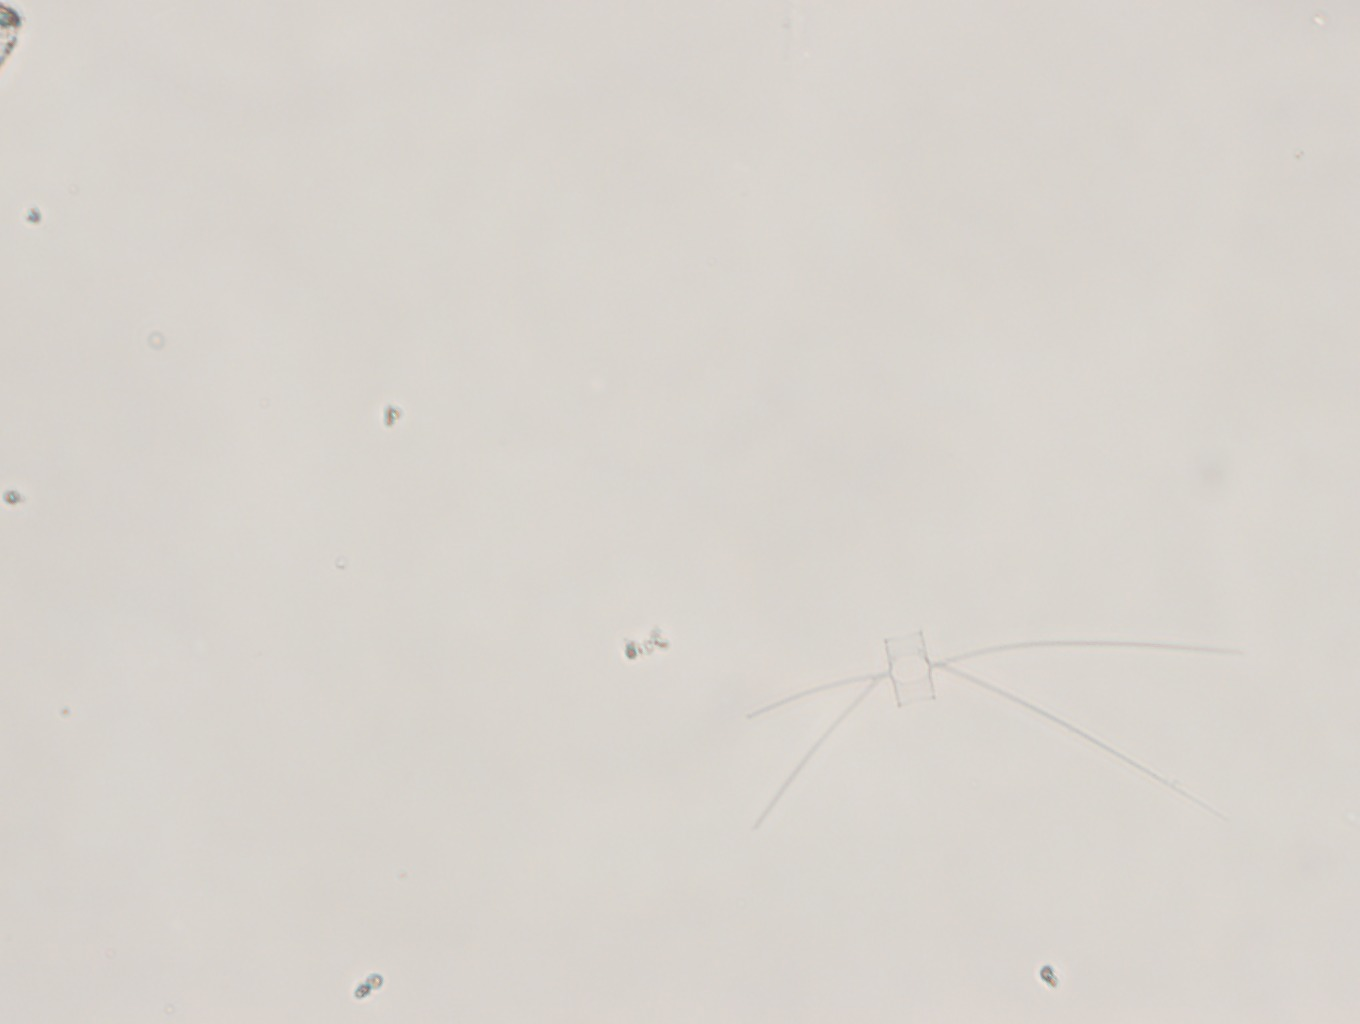chaetoceros: (724, 616, 1248, 830)
